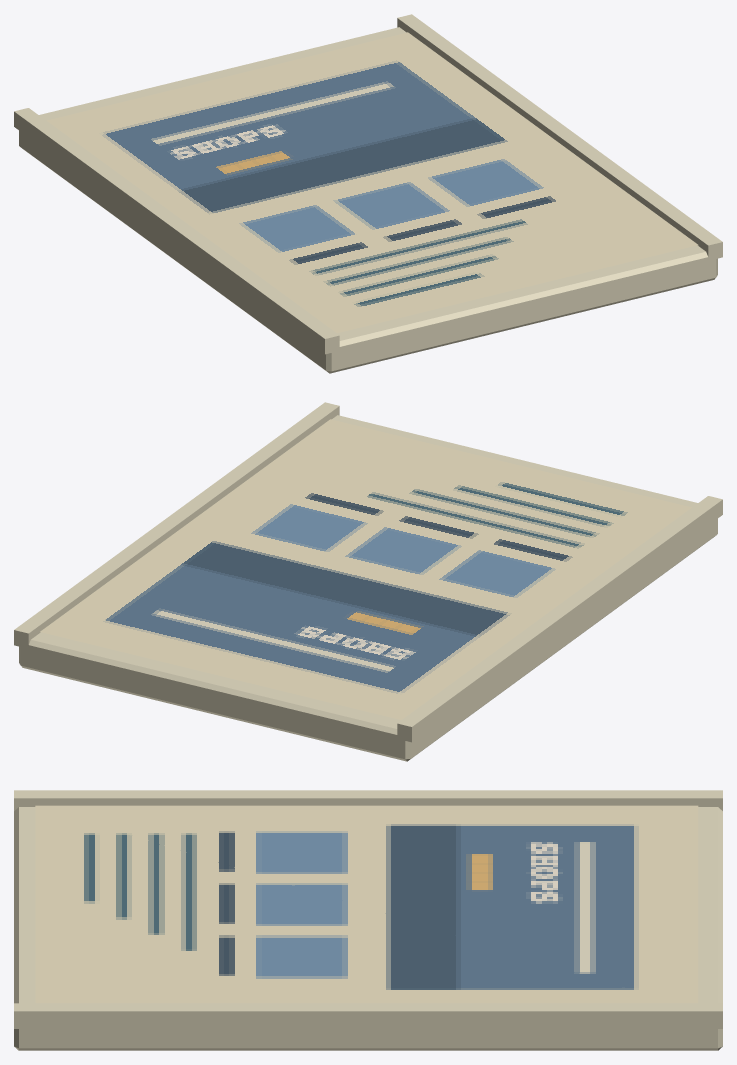
File: mallbrochure.glb
The picture shows the model from 3 angles, top to bottom: view 1: azimuth 30°, elevation 25°; view 2: azimuth 150°, elevation 25°; view 3: azimuth 270°, elevation 25°; orthographic projection. The views are drawn at different scales.
Parts seen in each view (by area): view 1: block_printed face, block_paper or card stock, block_folded paper edge (×2); view 2: block_printed face, block_paper or card stock, block_folded paper edge (×2); view 3: block_printed face, block_folded paper edge (×2), block_paper or card stock.
Part boxes in pixels (x1,y1,x2,y2): block_printed face: (46,32,698,333); block_paper or card stock: (19,27,717,373); block_folded paper edge (×2): (14,14,722,354); block_printed face: (40,419,691,720); block_paper or card stock: (19,415,717,761); block_folded paper edge (×2): (14,402,722,742); block_printed face: (35,805,698,1003); block_folded paper edge (×2): (14,790,722,1028); block_paper or card stock: (14,807,722,1050).
Size of the model in its own units: 0.1814 by 0.0165 by 0.2457.
Materials: 1 (1 with a texture image).
